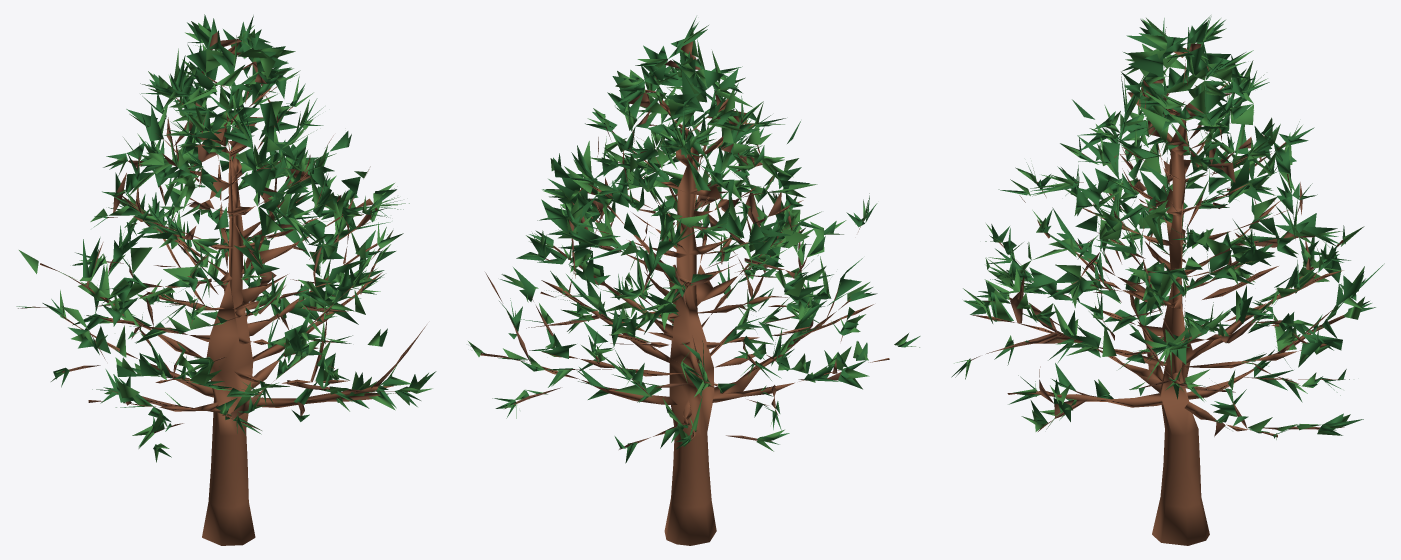
3 renders of one model, left to right at view 1: azimuth 30°, elevation 25°; view 2: azimuth 150°, elevation 25°; view 3: azimuth 270°, elevation 25°, orthographic. The views are drawn at different scales.
Visible parts, largest first — view 1: body; view 2: body; view 3: body.
Boxes of the visible parts, left/top/right/bottom form: body: left=16, top=14, right=436, bottom=545; body: left=468, top=16, right=920, bottom=545; body: left=951, top=15, right=1384, bottom=545.
Size of the model in its own units: 5.88 by 8.03 by 6.08.
1 material, 1 textured.
